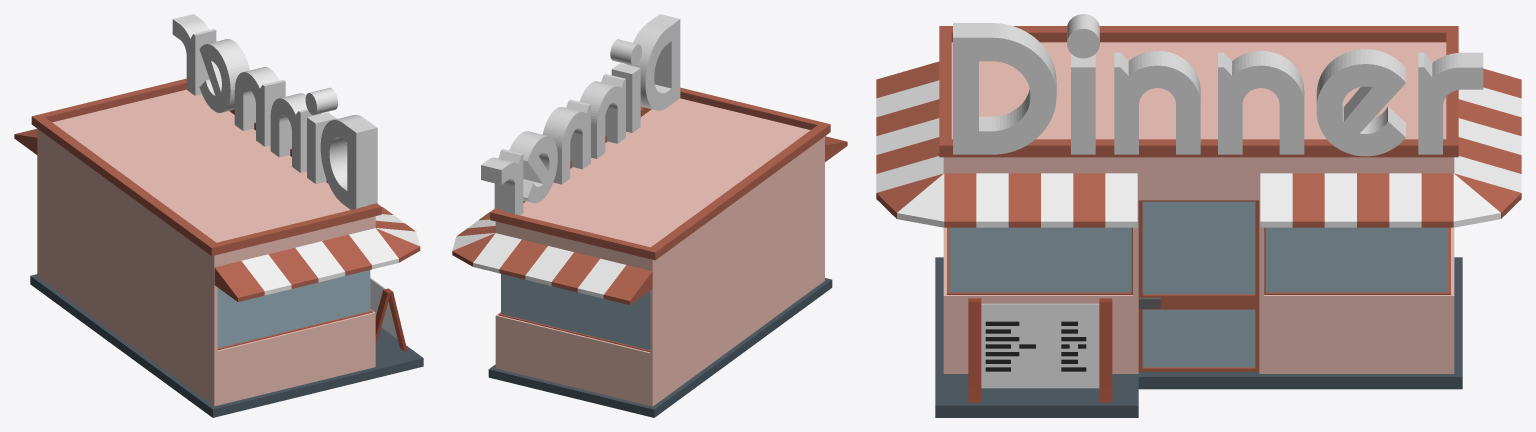
File: food-shop-m.glb
The picture shows the model from 3 angles, left to right: view 1: azimuth 30°, elevation 25°; view 2: azimuth 150°, elevation 25°; view 3: azimuth 270°, elevation 25°; orthographic projection. The views are drawn at different scales.
Parts seen in each view (by area): view 1: food shop-m; view 2: food shop-m; view 3: food shop-m.
Part boxes in pixels (x1,y1,x2,y2): food shop-m: (14,14,423,417); food shop-m: (452,14,847,417); food shop-m: (876,14,1521,417).
Bounding box in the file's own units: 3.47 × 3.93 × 6.37.
Materials: 1 (1 with a texture image).
